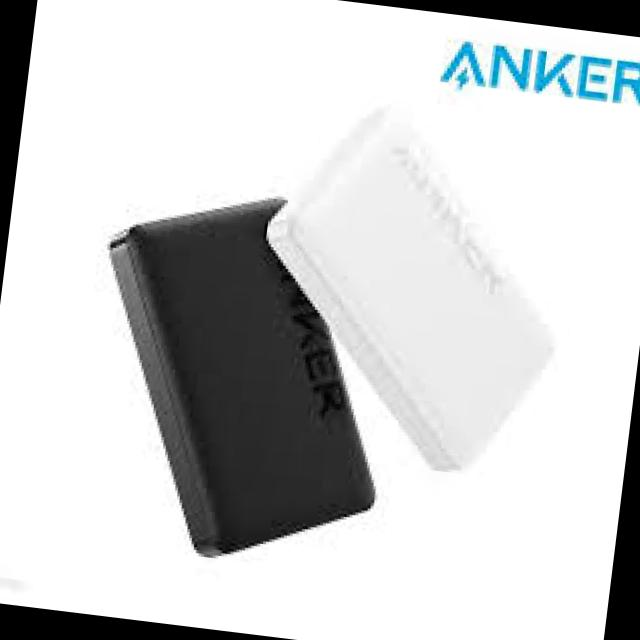power_bank: (73, 177, 418, 580), (242, 94, 584, 484)
